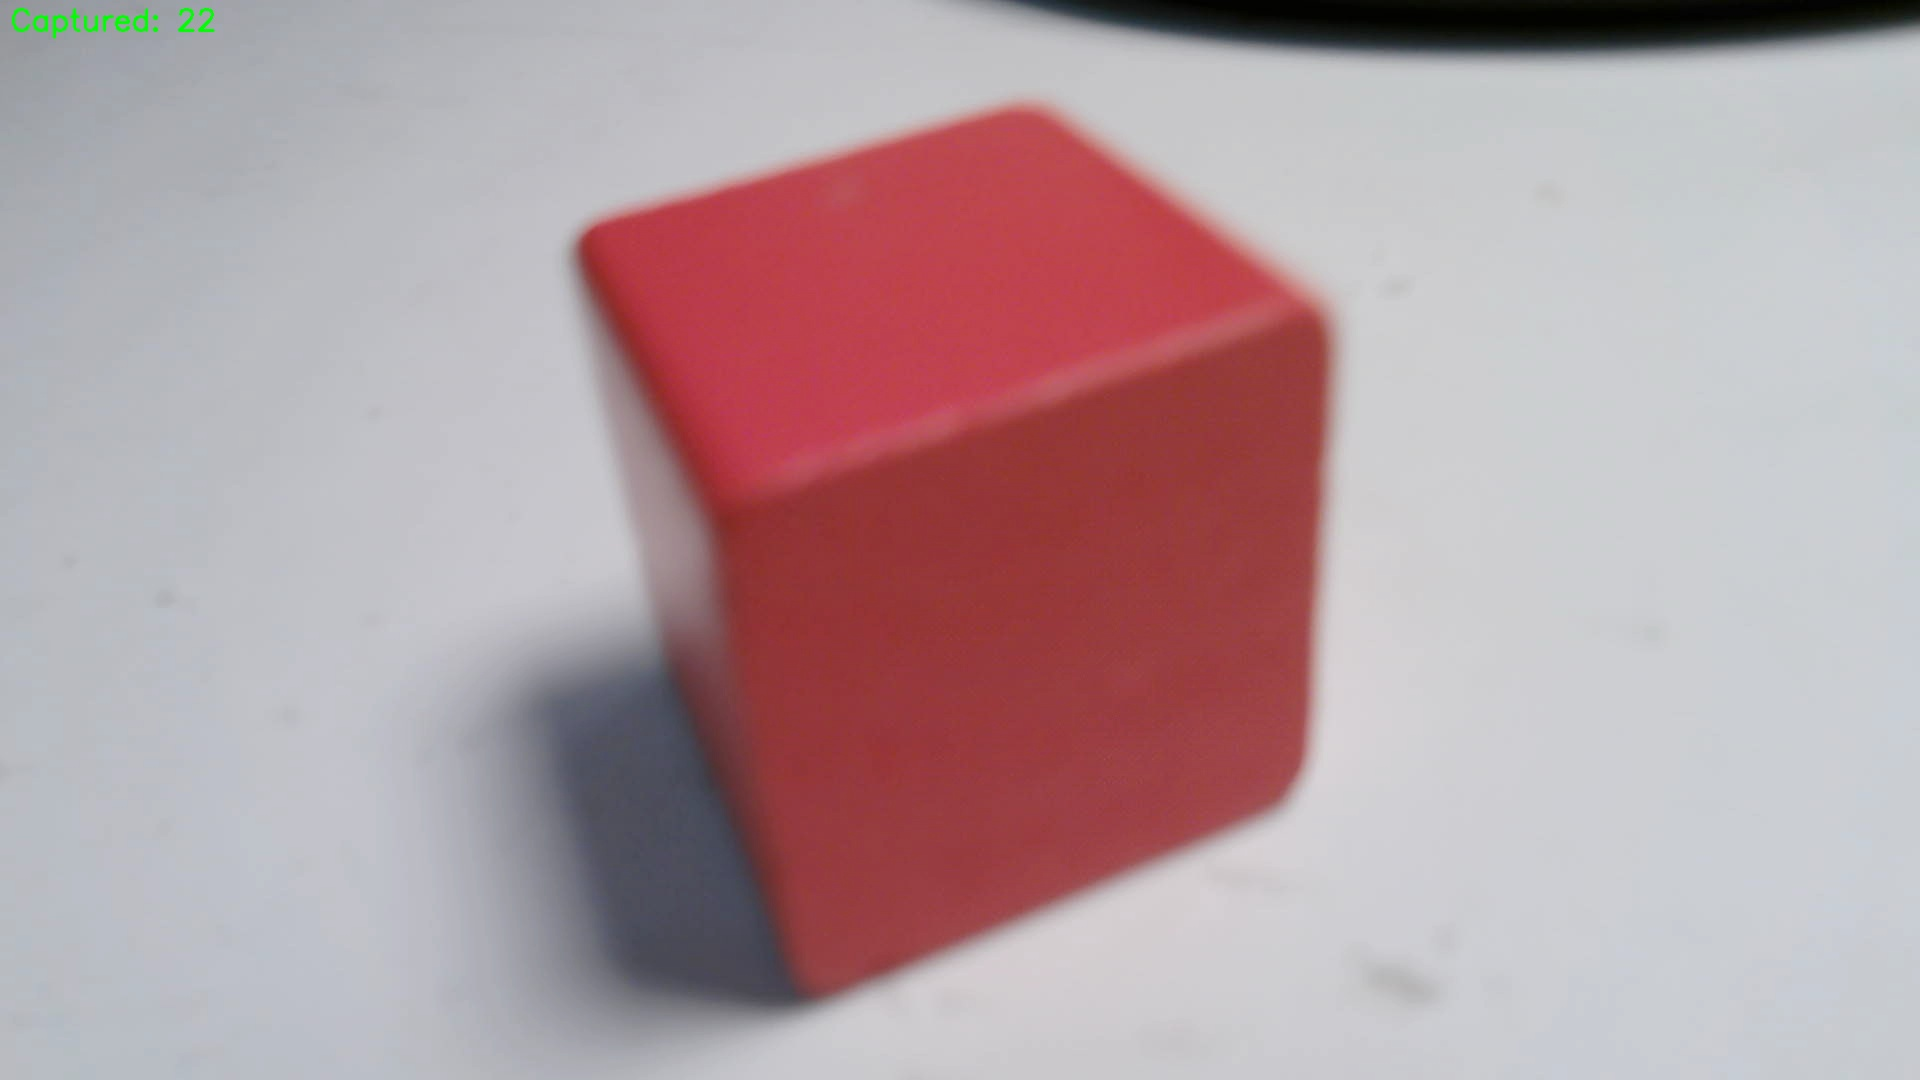red: (584, 107, 1332, 998)
